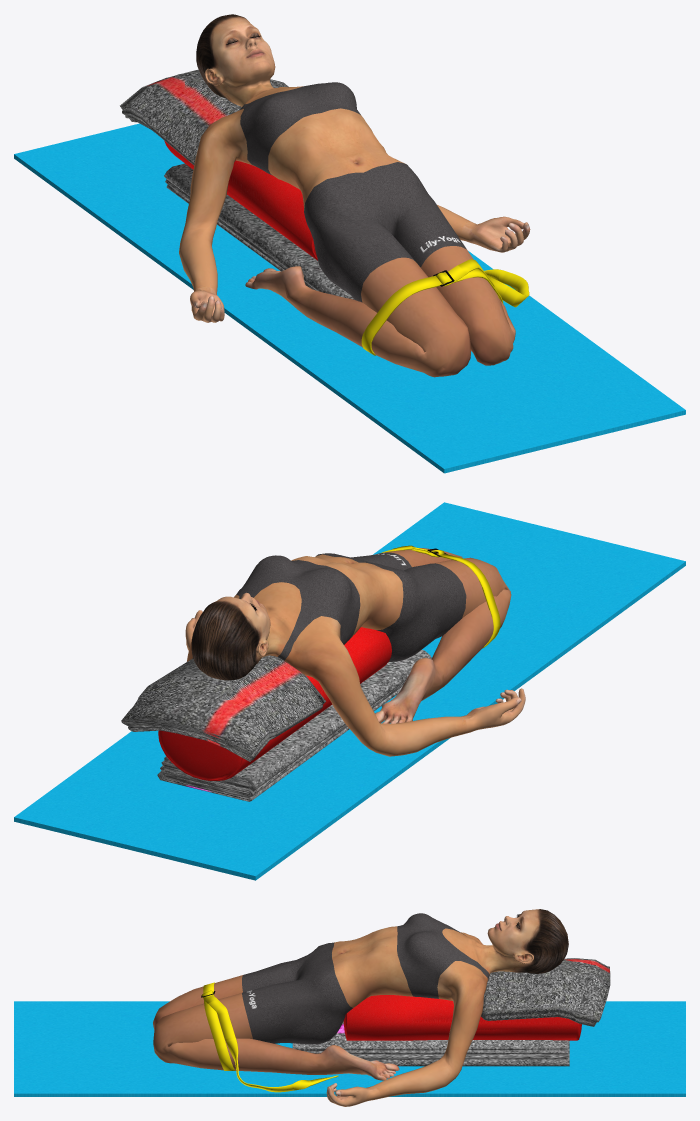
The model's file is supta_virasana.glb.
The picture shows the model from 3 angles, top to bottom: view 1: azimuth 30°, elevation 25°; view 2: azimuth 150°, elevation 25°; view 3: azimuth 270°, elevation 25°; orthographic projection. The views are drawn at different scales.
Parts seen in each view (by area): view 1: FemaleSkin-material, mat_001-material, Blanket_001-material, Blanket_006-material (×2), bolster_001-material, belt_005-material; view 2: mat_001-material, FemaleSkin-material, Blanket_001-material, Blanket_006-material (×2), bolster_001-material, belt_005-material; view 3: FemaleSkin-material, mat_001-material, bolster_001-material, Blanket_001-material, Blanket_006-material (×2), belt_005-material.
Boxes of the visible parts, x1,y1,x2,y2 form: FemaleSkin-material: (179, 14, 530, 377); mat_001-material: (14, 123, 685, 473); Blanket_001-material: (120, 69, 288, 165); Blanket_006-material (×2): (164, 163, 354, 299); bolster_001-material: (164, 141, 317, 260); belt_005-material: (361, 259, 529, 355); mat_001-material: (14, 502, 685, 880); FemaleSkin-material: (185, 548, 525, 756); Blanket_001-material: (121, 655, 325, 761); Blanket_006-material (×2): (157, 650, 431, 801); bolster_001-material: (158, 627, 391, 780); belt_005-material: (381, 545, 500, 648); FemaleSkin-material: (153, 909, 568, 1106); mat_001-material: (14, 1001, 685, 1096); bolster_001-material: (343, 995, 581, 1040); Blanket_001-material: (481, 958, 610, 1026); Blanket_006-material (×2): (292, 1021, 569, 1066); belt_005-material: (202, 982, 338, 1092).
Bounding box in the file's own units: 2.74 × 1.42 × 6.17.
Materials: 7 (5 with a texture image).
